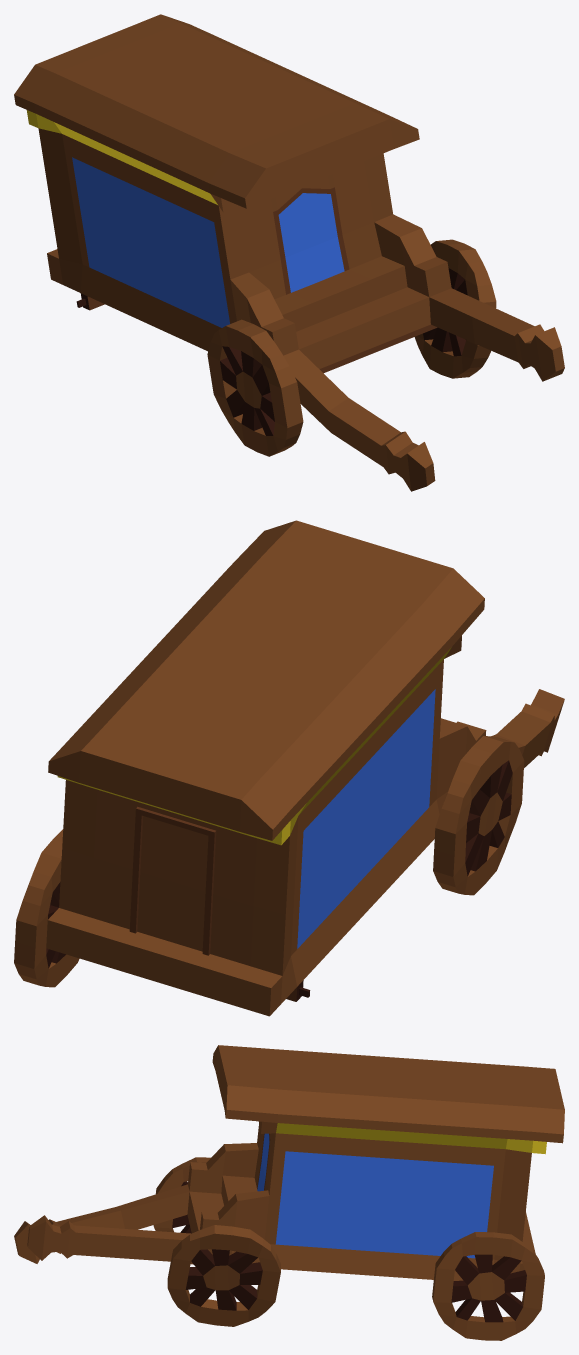
Rendered from Carriage_v01.fbx.
3 renders of one model, top to bottom at view 1: azimuth 30°, elevation 25°; view 2: azimuth 150°, elevation 25°; view 3: azimuth 270°, elevation 25°, orthographic. The views are drawn at different scales.
Visible parts, largest first — view 1: Wagon, F.Wheel.R, F.Wheel.R.001; view 2: Wagon, F.Wheel.R, B.Wheel.R.001; view 3: Wagon, B.Wheel.R.001, F.Wheel.R.001, F.Wheel.R.
Part boxes in pixels (left/top/right/bottom): Wagon: left=14, top=14, right=564, bottom=491; F.Wheel.R: left=207, top=319, right=303, bottom=456; F.Wheel.R.001: left=414, top=239, right=496, bottom=378; Wagon: left=46, top=520, right=564, bottom=1016; F.Wheel.R: left=433, top=736, right=524, bottom=895; B.Wheel.R.001: left=14, top=829, right=79, bottom=987; Wagon: left=14, top=1045, right=564, bottom=1280; B.Wheel.R.001: left=432, top=1232, right=544, bottom=1340; F.Wheel.R.001: left=167, top=1225, right=280, bottom=1326; F.Wheel.R: left=153, top=1157, right=210, bottom=1264.
Bounding box in the file's own units: 2529 × 1109 × 1190.
